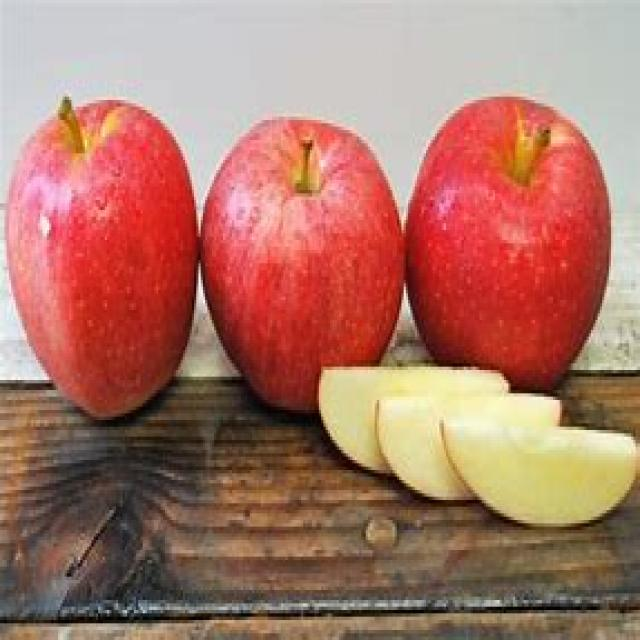Apple: (8, 105, 198, 423), (408, 89, 610, 365), (202, 103, 404, 364), (441, 412, 638, 528), (371, 396, 448, 498), (312, 361, 376, 457)
